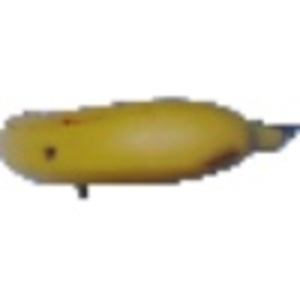banana: (1, 95, 292, 185)
